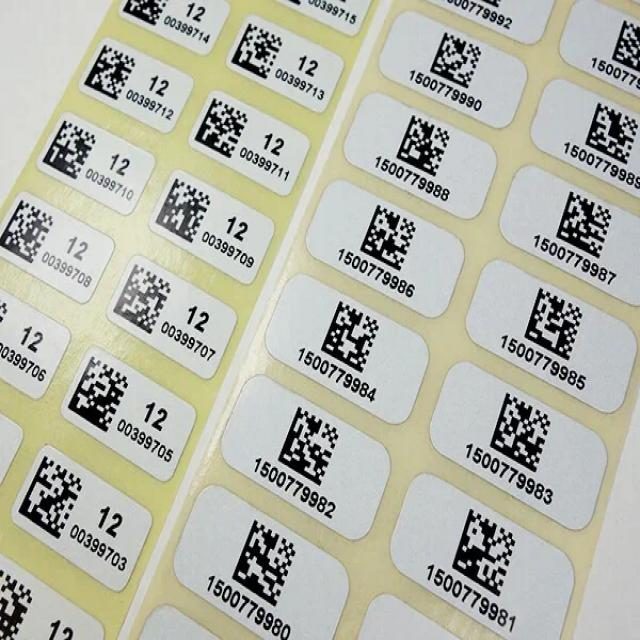datamatrix: (232, 518, 299, 609), (453, 509, 518, 600), (20, 455, 84, 542), (490, 392, 554, 474), (279, 405, 342, 487), (70, 352, 130, 434), (320, 299, 381, 374), (526, 287, 584, 364), (114, 263, 172, 337), (360, 204, 420, 272), (156, 175, 214, 245), (555, 191, 613, 261), (396, 114, 452, 179), (584, 101, 640, 165), (2, 199, 55, 266), (43, 118, 98, 182), (195, 95, 249, 160), (232, 21, 286, 82), (430, 31, 482, 90), (86, 43, 138, 101), (1, 568, 33, 640), (612, 18, 640, 75), (122, 1, 170, 27)
